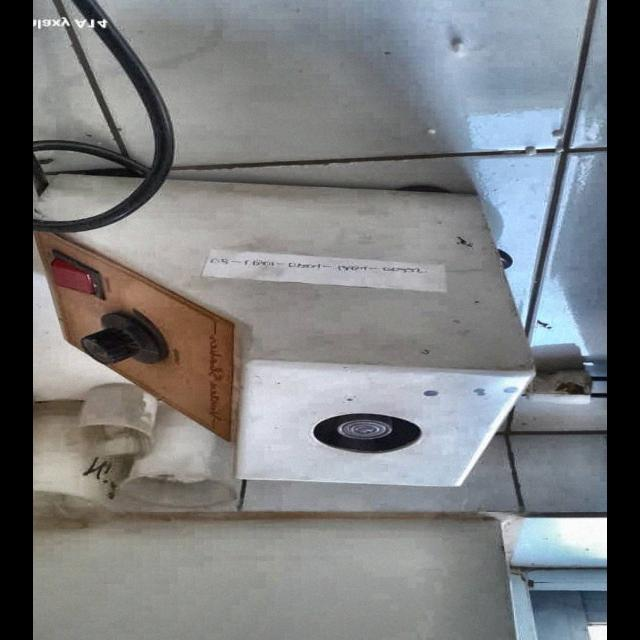Vortex: (33, 183, 540, 495)
